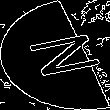N_E: (10, 29, 100, 81)
